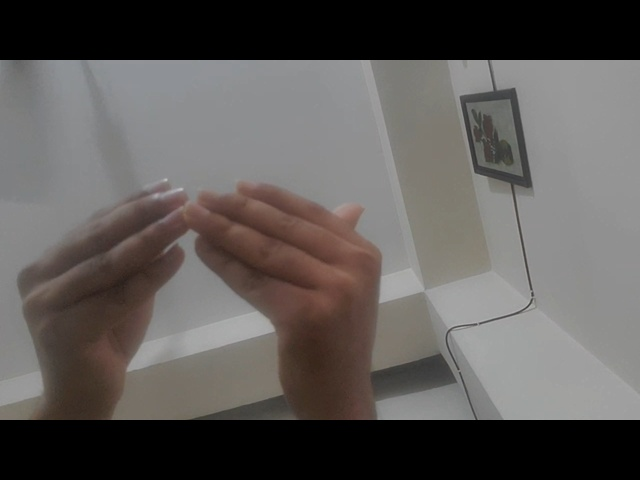Thank you: (11, 163, 446, 411)
